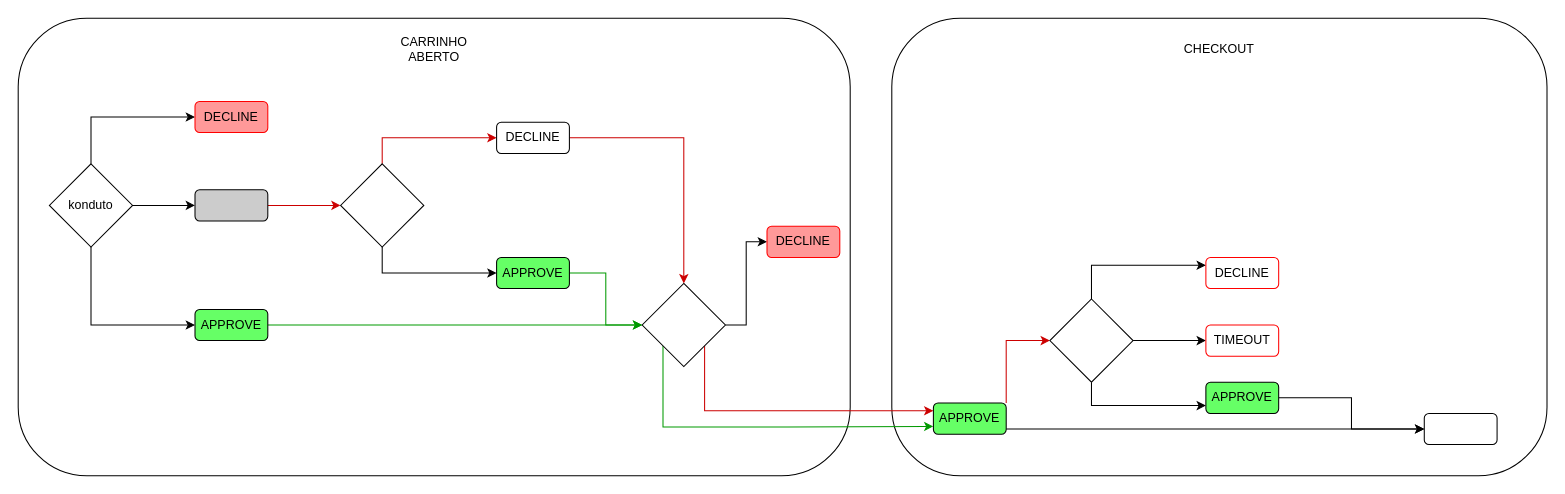
This 1565x494 diagram has some shape labels left out. Here are the shapes that lost their labels. From the top down, the centre of each, then its label:
(x=231, y=205): REVIEW
(x=382, y=205): riskified
(x=683, y=324): pagarme
(x=1091, y=340): mesa James
(x=1460, y=428): APPROVED
